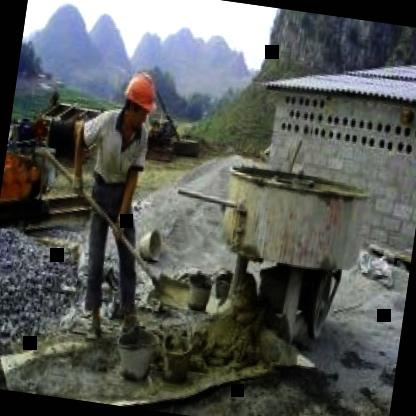helmet: (116, 67, 160, 140)
